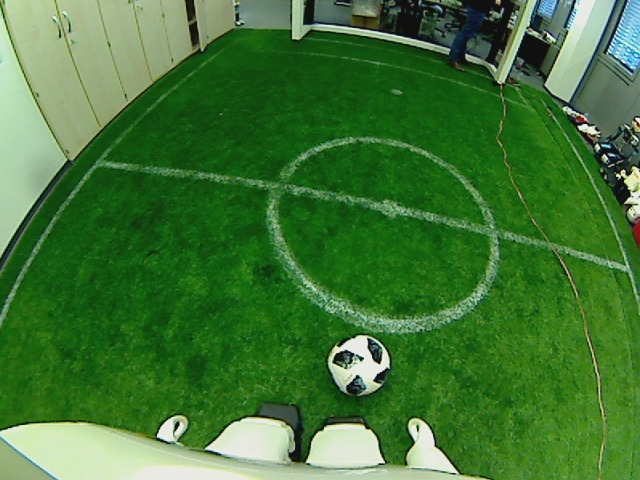ball: (325, 333, 392, 397)
